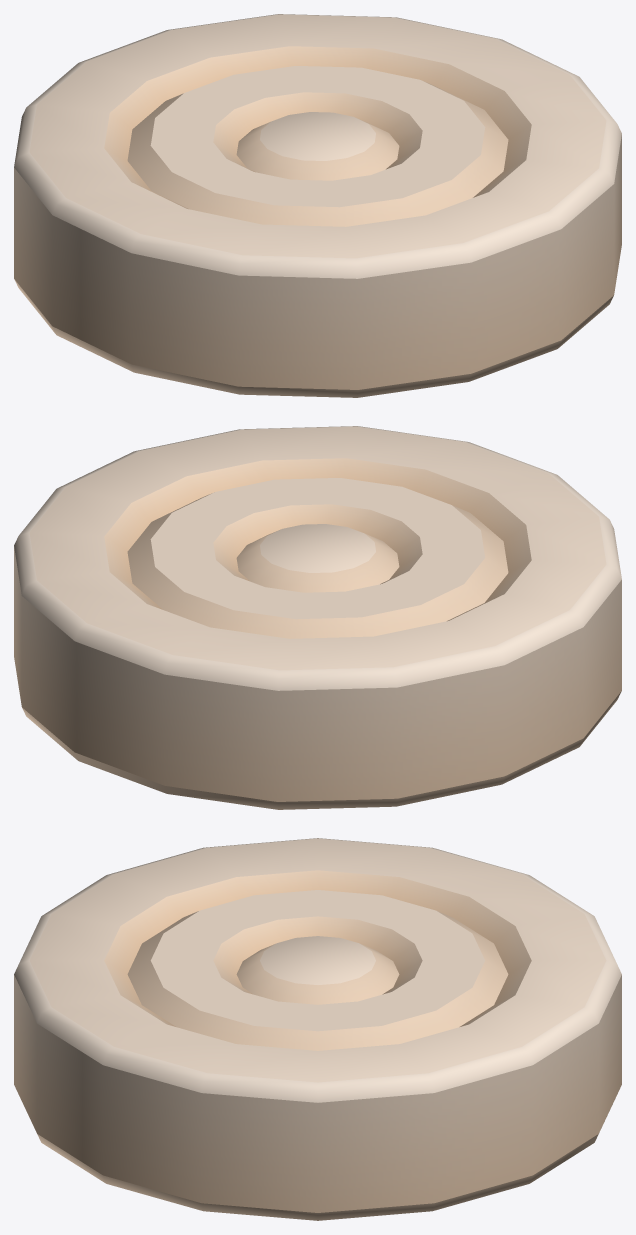
Rendered from checker_white_single.obj.
3 views of the same model, one above another, from view 1: azimuth 30°, elevation 25°; view 2: azimuth 150°, elevation 25°; view 3: azimuth 270°, elevation 25° (orthographic).
Parts seen in each view (by area): view 1: checker_white_single; view 2: checker_white_single; view 3: checker_white_single.
Boxes of the visible parts, x1,y1,x2,y2 form: checker_white_single: (14,14,621,397); checker_white_single: (14,426,621,809); checker_white_single: (14,838,621,1220).
Bounding box in the file's own units: 0.8 × 0.2 × 0.8.
1 material, 1 textured.
